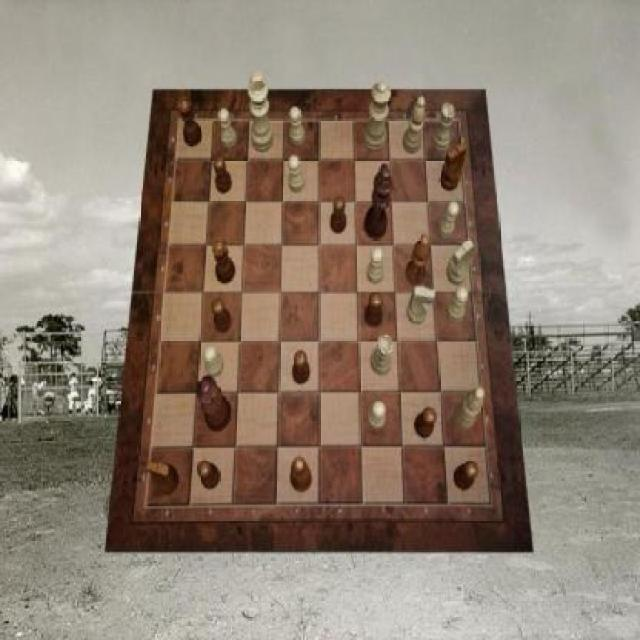bishop: (406, 234, 430, 286), (289, 457, 312, 493)
black-bishop: (364, 164, 394, 240)
black-king: (440, 143, 468, 192), (146, 460, 179, 496)
black-knight: (212, 155, 232, 193), (454, 460, 478, 491), (414, 408, 437, 440), (197, 460, 220, 491), (330, 195, 348, 233), (212, 299, 232, 333), (292, 349, 310, 384), (365, 292, 382, 327)
black-pawn: (197, 376, 232, 432)
black-queen: (178, 97, 202, 148), (214, 238, 237, 284)
black-rook: (403, 95, 426, 153), (454, 388, 484, 432)
white-bishop: (249, 71, 274, 152)
white-king: (448, 240, 474, 286), (408, 286, 435, 325)
white-knight: (437, 202, 459, 240), (446, 286, 469, 322), (218, 108, 238, 148), (204, 345, 224, 377), (290, 106, 306, 146), (368, 248, 385, 284), (290, 155, 306, 193), (368, 402, 385, 431)
white-pawn: (363, 81, 391, 152)
white-queen: (432, 103, 456, 152), (371, 337, 394, 377)
